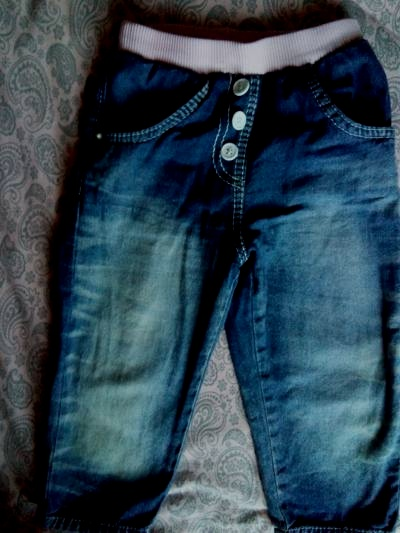Pants: (28, 10, 398, 516)
